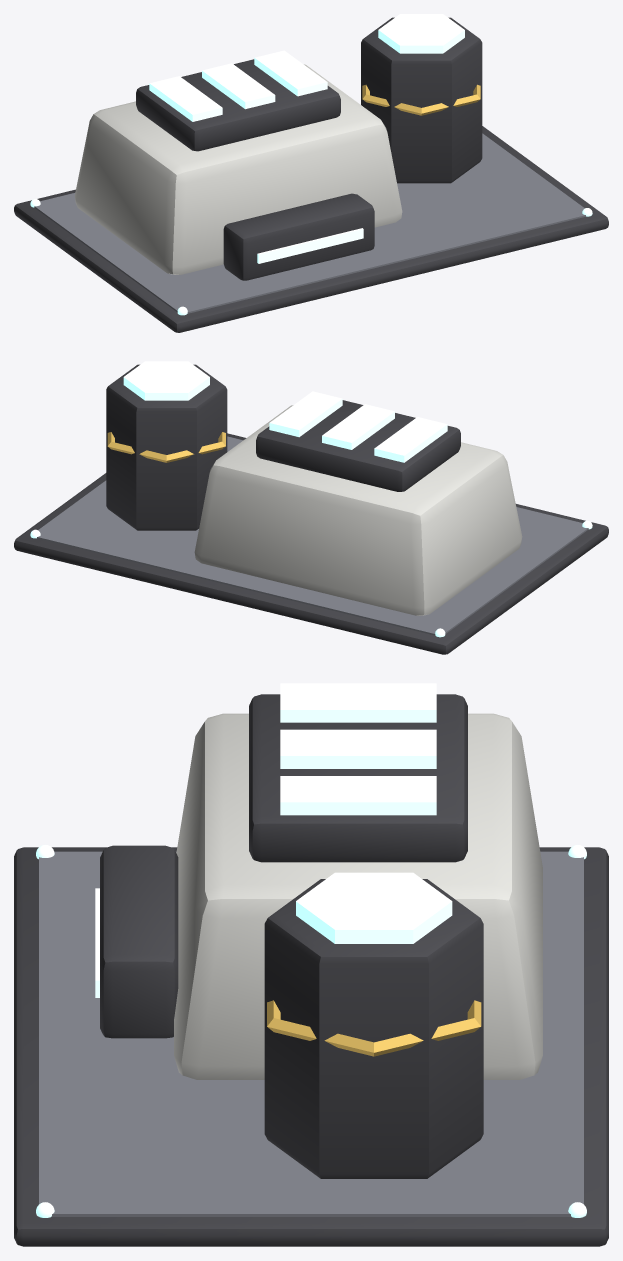
Rendered from refinery_rob.glb.
The picture shows the model from 3 angles, top to bottom: view 1: azimuth 30°, elevation 25°; view 2: azimuth 150°, elevation 25°; view 3: azimuth 270°, elevation 25°; orthographic projection. The views are drawn at different scales.
Visible parts, largest first — view 1: refinery_rob; view 2: refinery_rob; view 3: refinery_rob.
Part boxes in pixels (x1=…): refinery_rob: x1=14, y1=14, x2=608, y2=332; refinery_rob: x1=14, y1=361, x2=608, y2=654; refinery_rob: x1=14, y1=683, x2=608, y2=1246.
Bounding box in the file's own units: 2.9 × 0.95 × 1.9.
